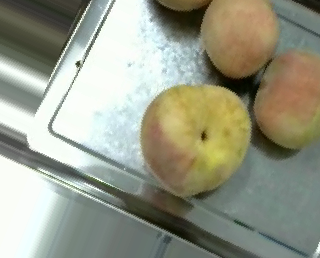Peach: (142, 83, 252, 193), (253, 48, 318, 151), (201, 0, 279, 78)
